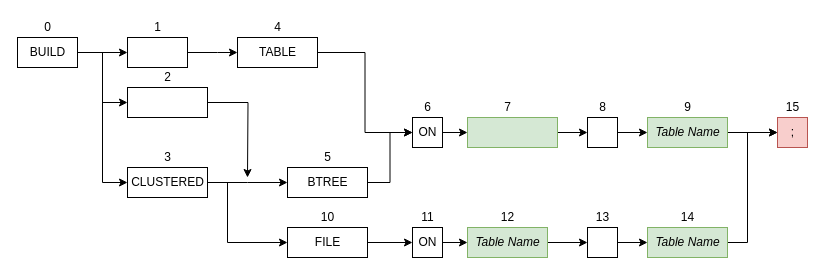
Image size: 825x275. Some labels were removed from this diagram. The centre of each missing label's shape, as x and y in pixels:
"AND" goes at (602,242).
"Column Name" goes at (512,132).
"HASH" goes at (157,52).
"IN" goes at (602,132).
"SECONDARY" goes at (167,102).
